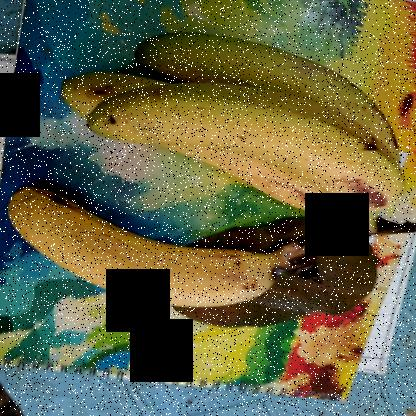ripe: (76, 92, 403, 221), (2, 181, 288, 312)
